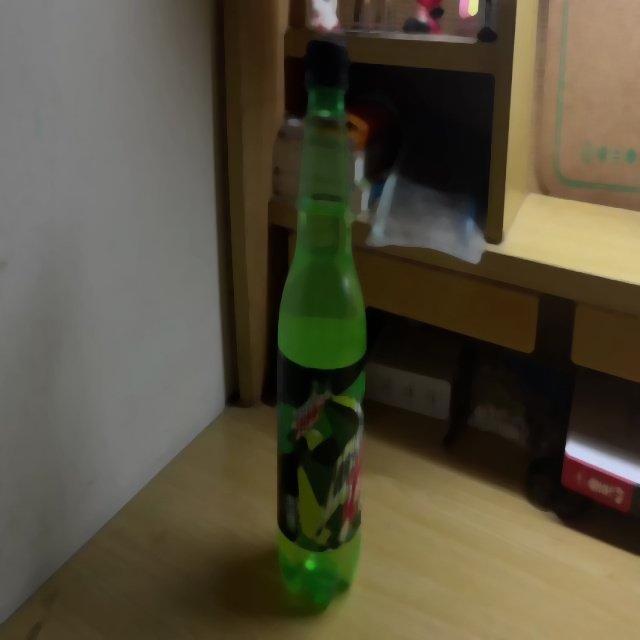Mountain-Dew: (276, 36, 366, 611)
